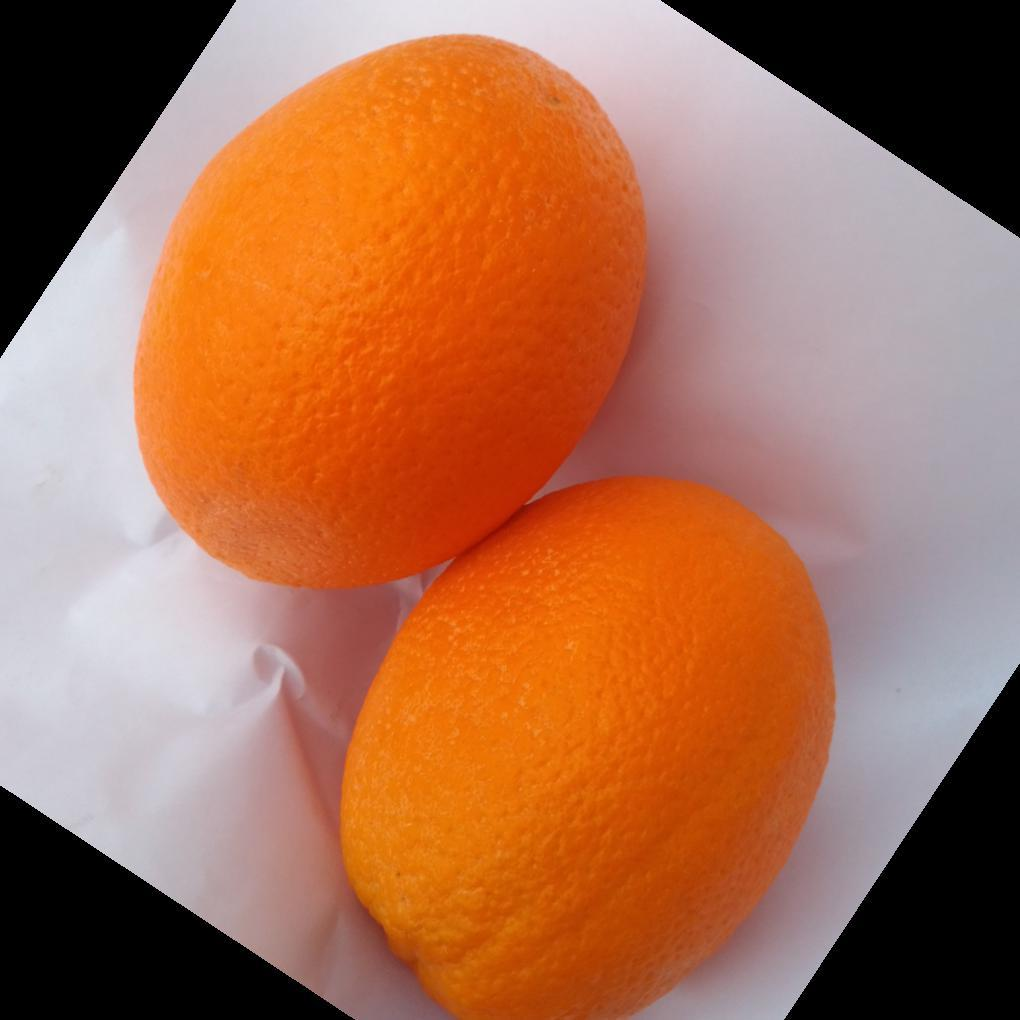FreshGuava: (131, 34, 838, 1020)
